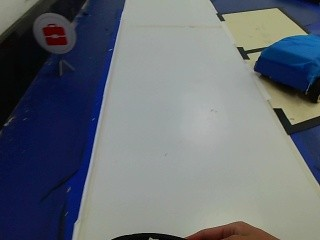company: (36, 14, 74, 53)
